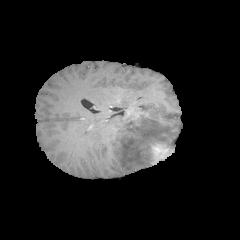glioma: (110, 111, 174, 173)
